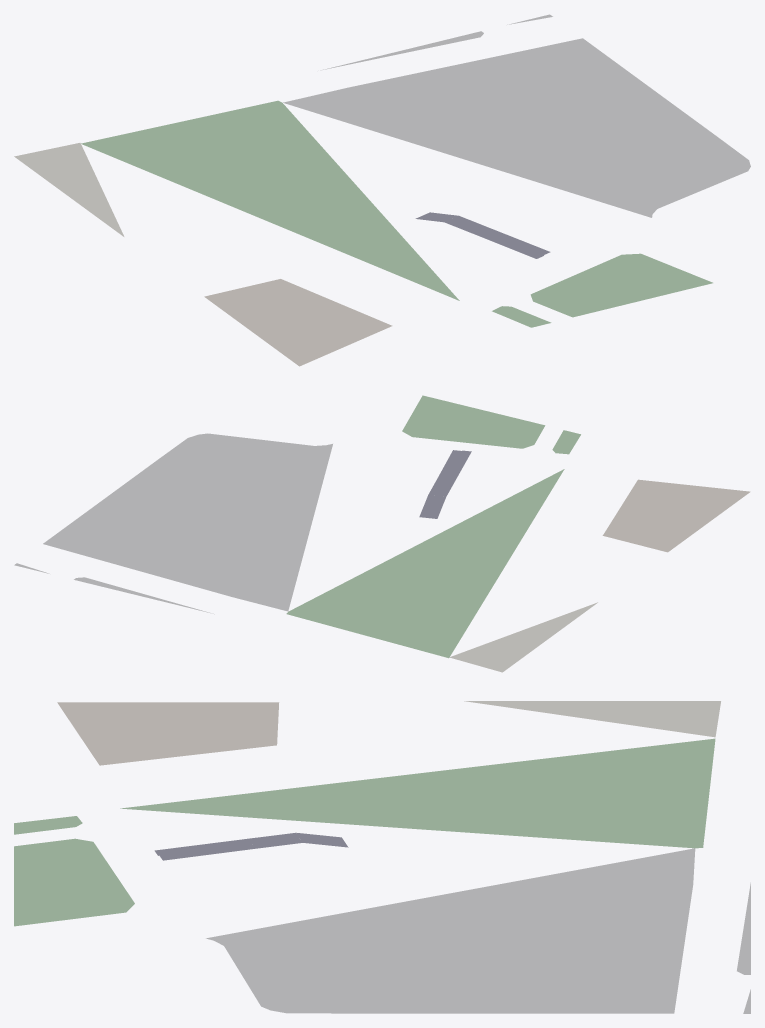
The model's file is 143_108_mid.glb.
3 renders of one model, top to bottom at view 1: azimuth 30°, elevation 25°; view 2: azimuth 150°, elevation 25°; view 3: azimuth 270°, elevation 25°, orthographic. The views are drawn at different scales.
Size of the model in its own units: 500 by 7.68 by 500.
